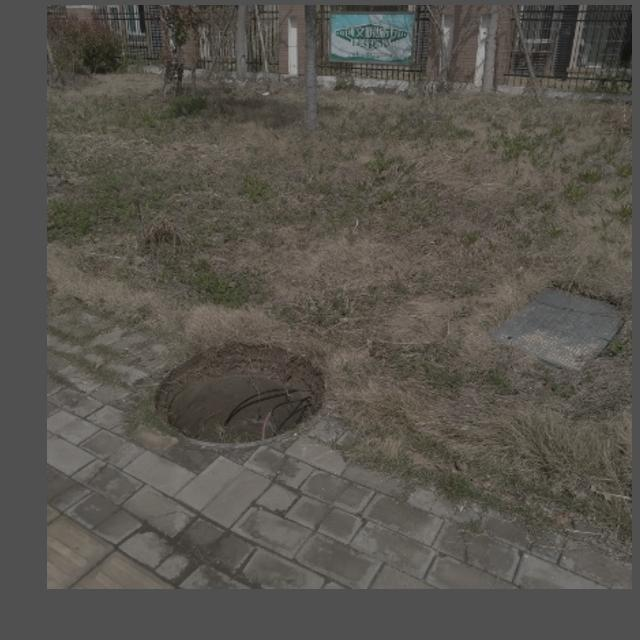lose: (145, 326, 326, 454)
